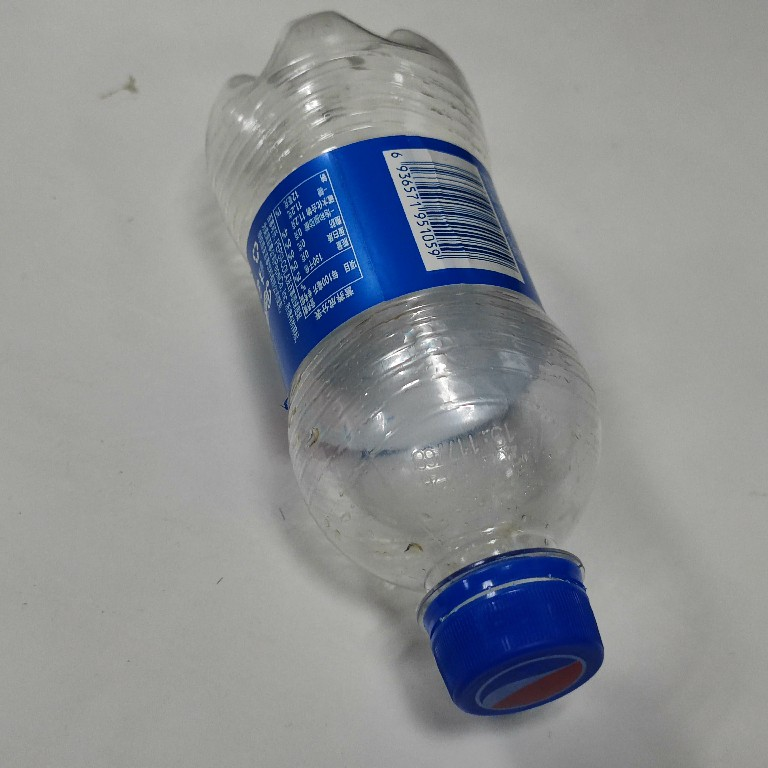bottle: (198, 8, 609, 722)
